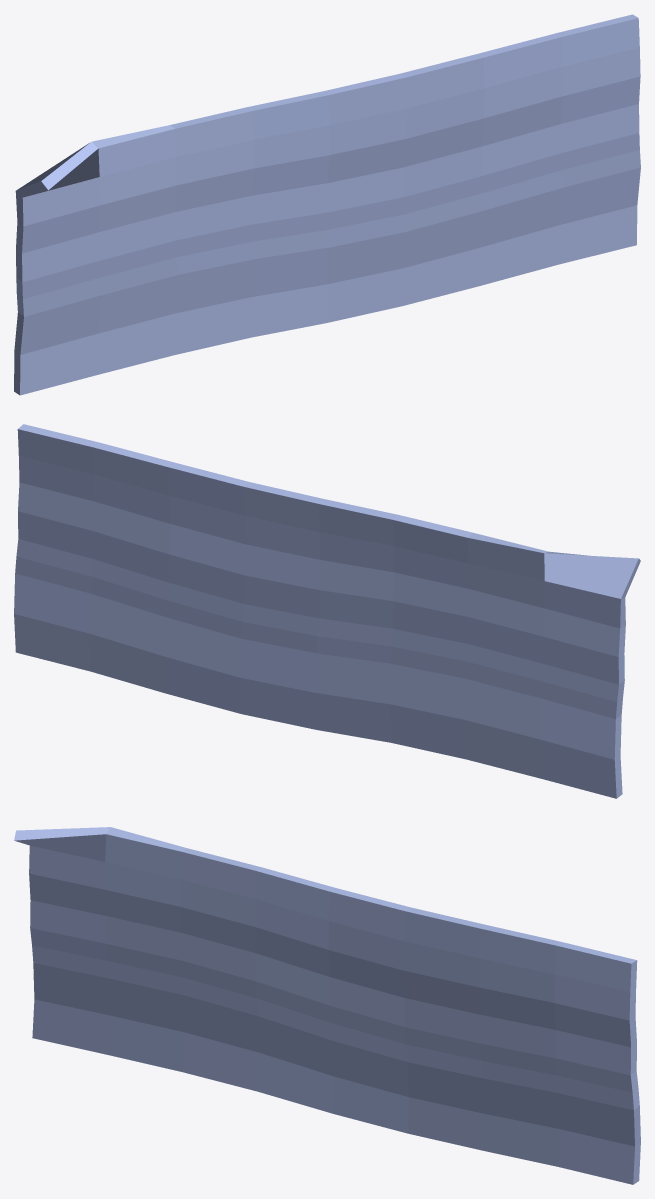
File: DuctTape.fbx
3 views of the same model, one above another, from view 1: azimuth 30°, elevation 25°; view 2: azimuth 150°, elevation 25°; view 3: azimuth 330°, elevation 25° (orthographic). The views are drawn at different scales.
Visible parts, largest first — view 1: DuctTape; view 2: DuctTape; view 3: DuctTape.
Boxes of the visible parts, x1=… form: DuctTape: x1=14, y1=14, x2=640, y2=395; DuctTape: x1=14, y1=424, x2=640, y2=798; DuctTape: x1=14, y1=827, x2=640, y2=1184.
Size of the model in its own units: 201 by 73.73 by 17.92.
